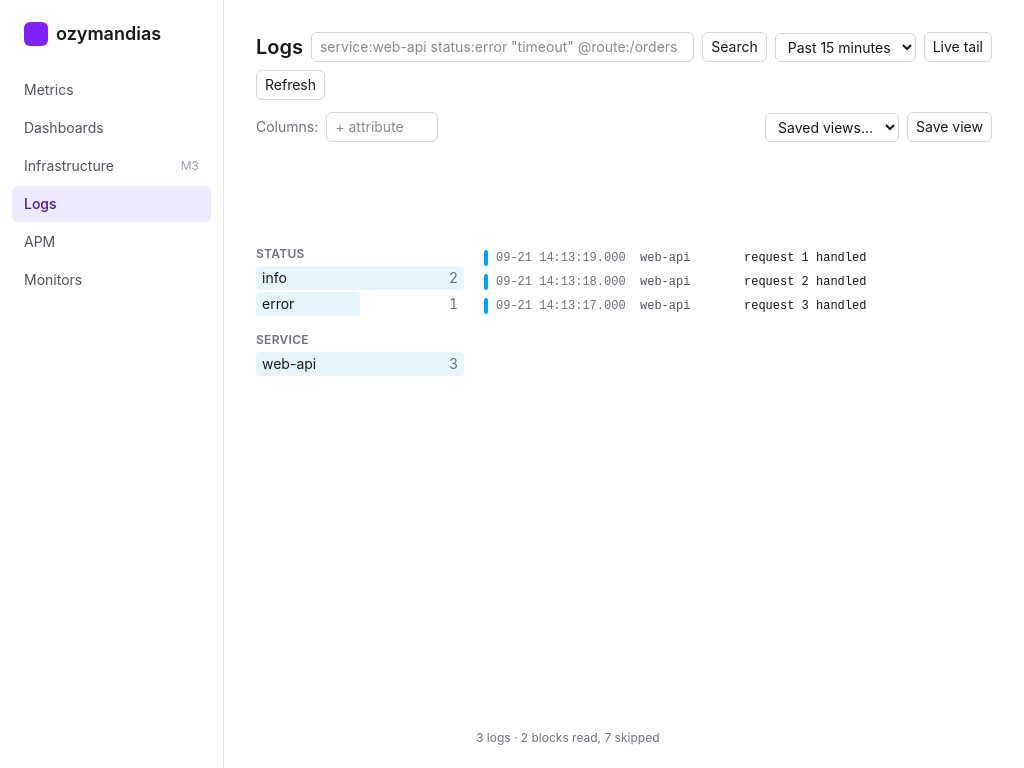
LogExplorer › completes a facet value in the query box without running a half-written query
Expected: the list named "Logs" is shown, x1=484 y1=250 x2=866 y2=314
Type "service:w" into the dropdown named "Log query" at (503, 47), box x1=311 y1=32 x2=694 y2=62
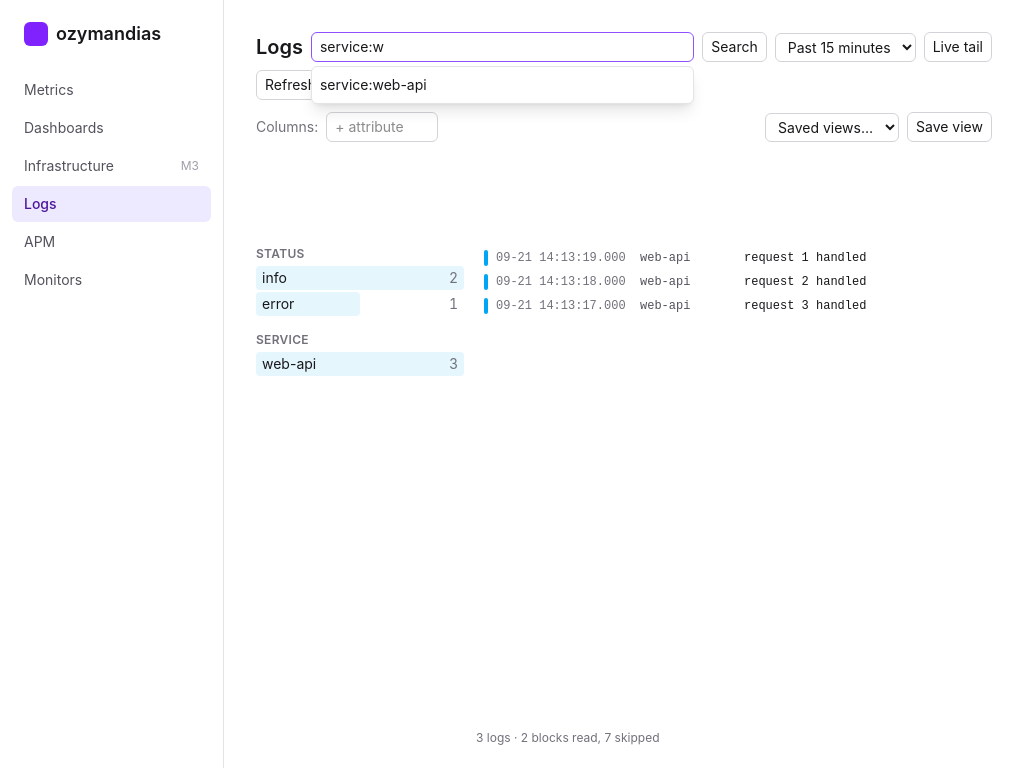
Click the option "service:web-api" at (373, 84), box x1=320 y1=76 x2=427 y2=93
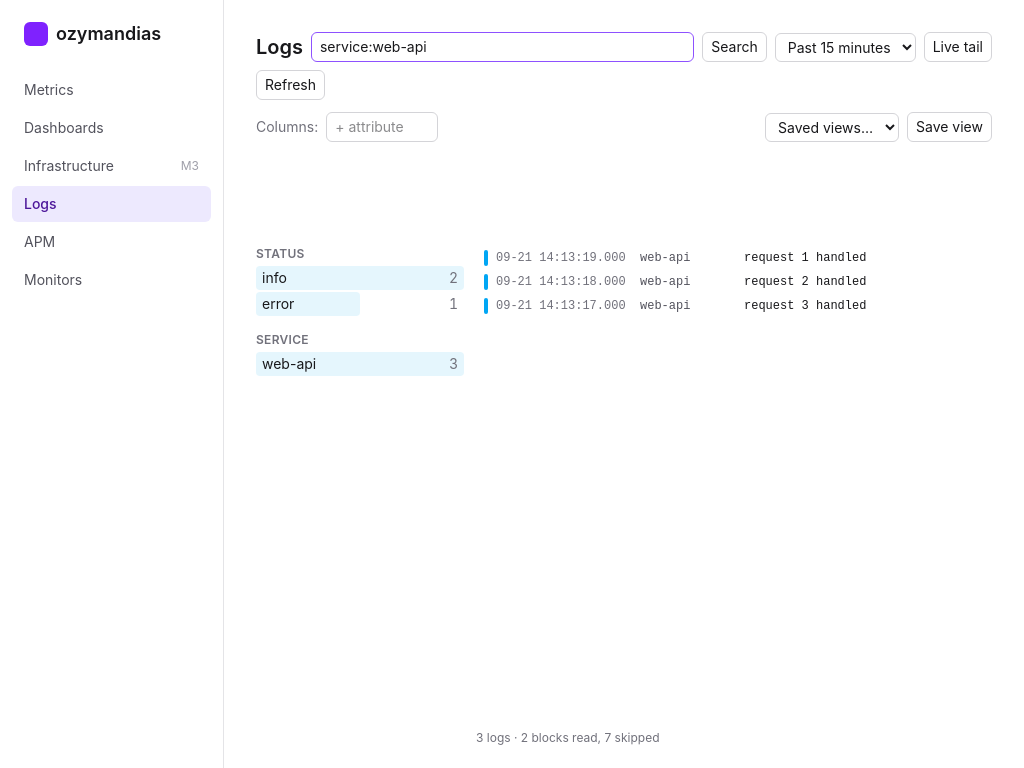
Now the dropdown named "Log query" holds "service:web-api", box x1=311 y1=32 x2=694 y2=62
